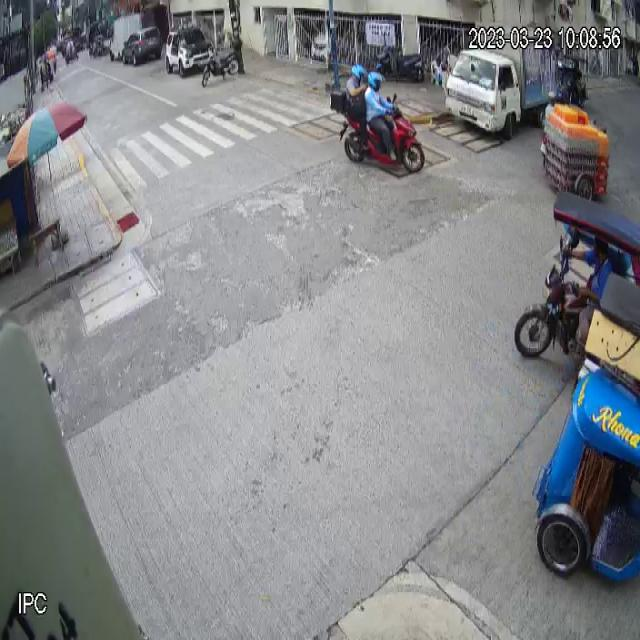Motorcycle: (330, 91, 425, 174)
Tricycle: (531, 270, 640, 585), (514, 190, 640, 358)
Truck: (445, 33, 557, 139)
